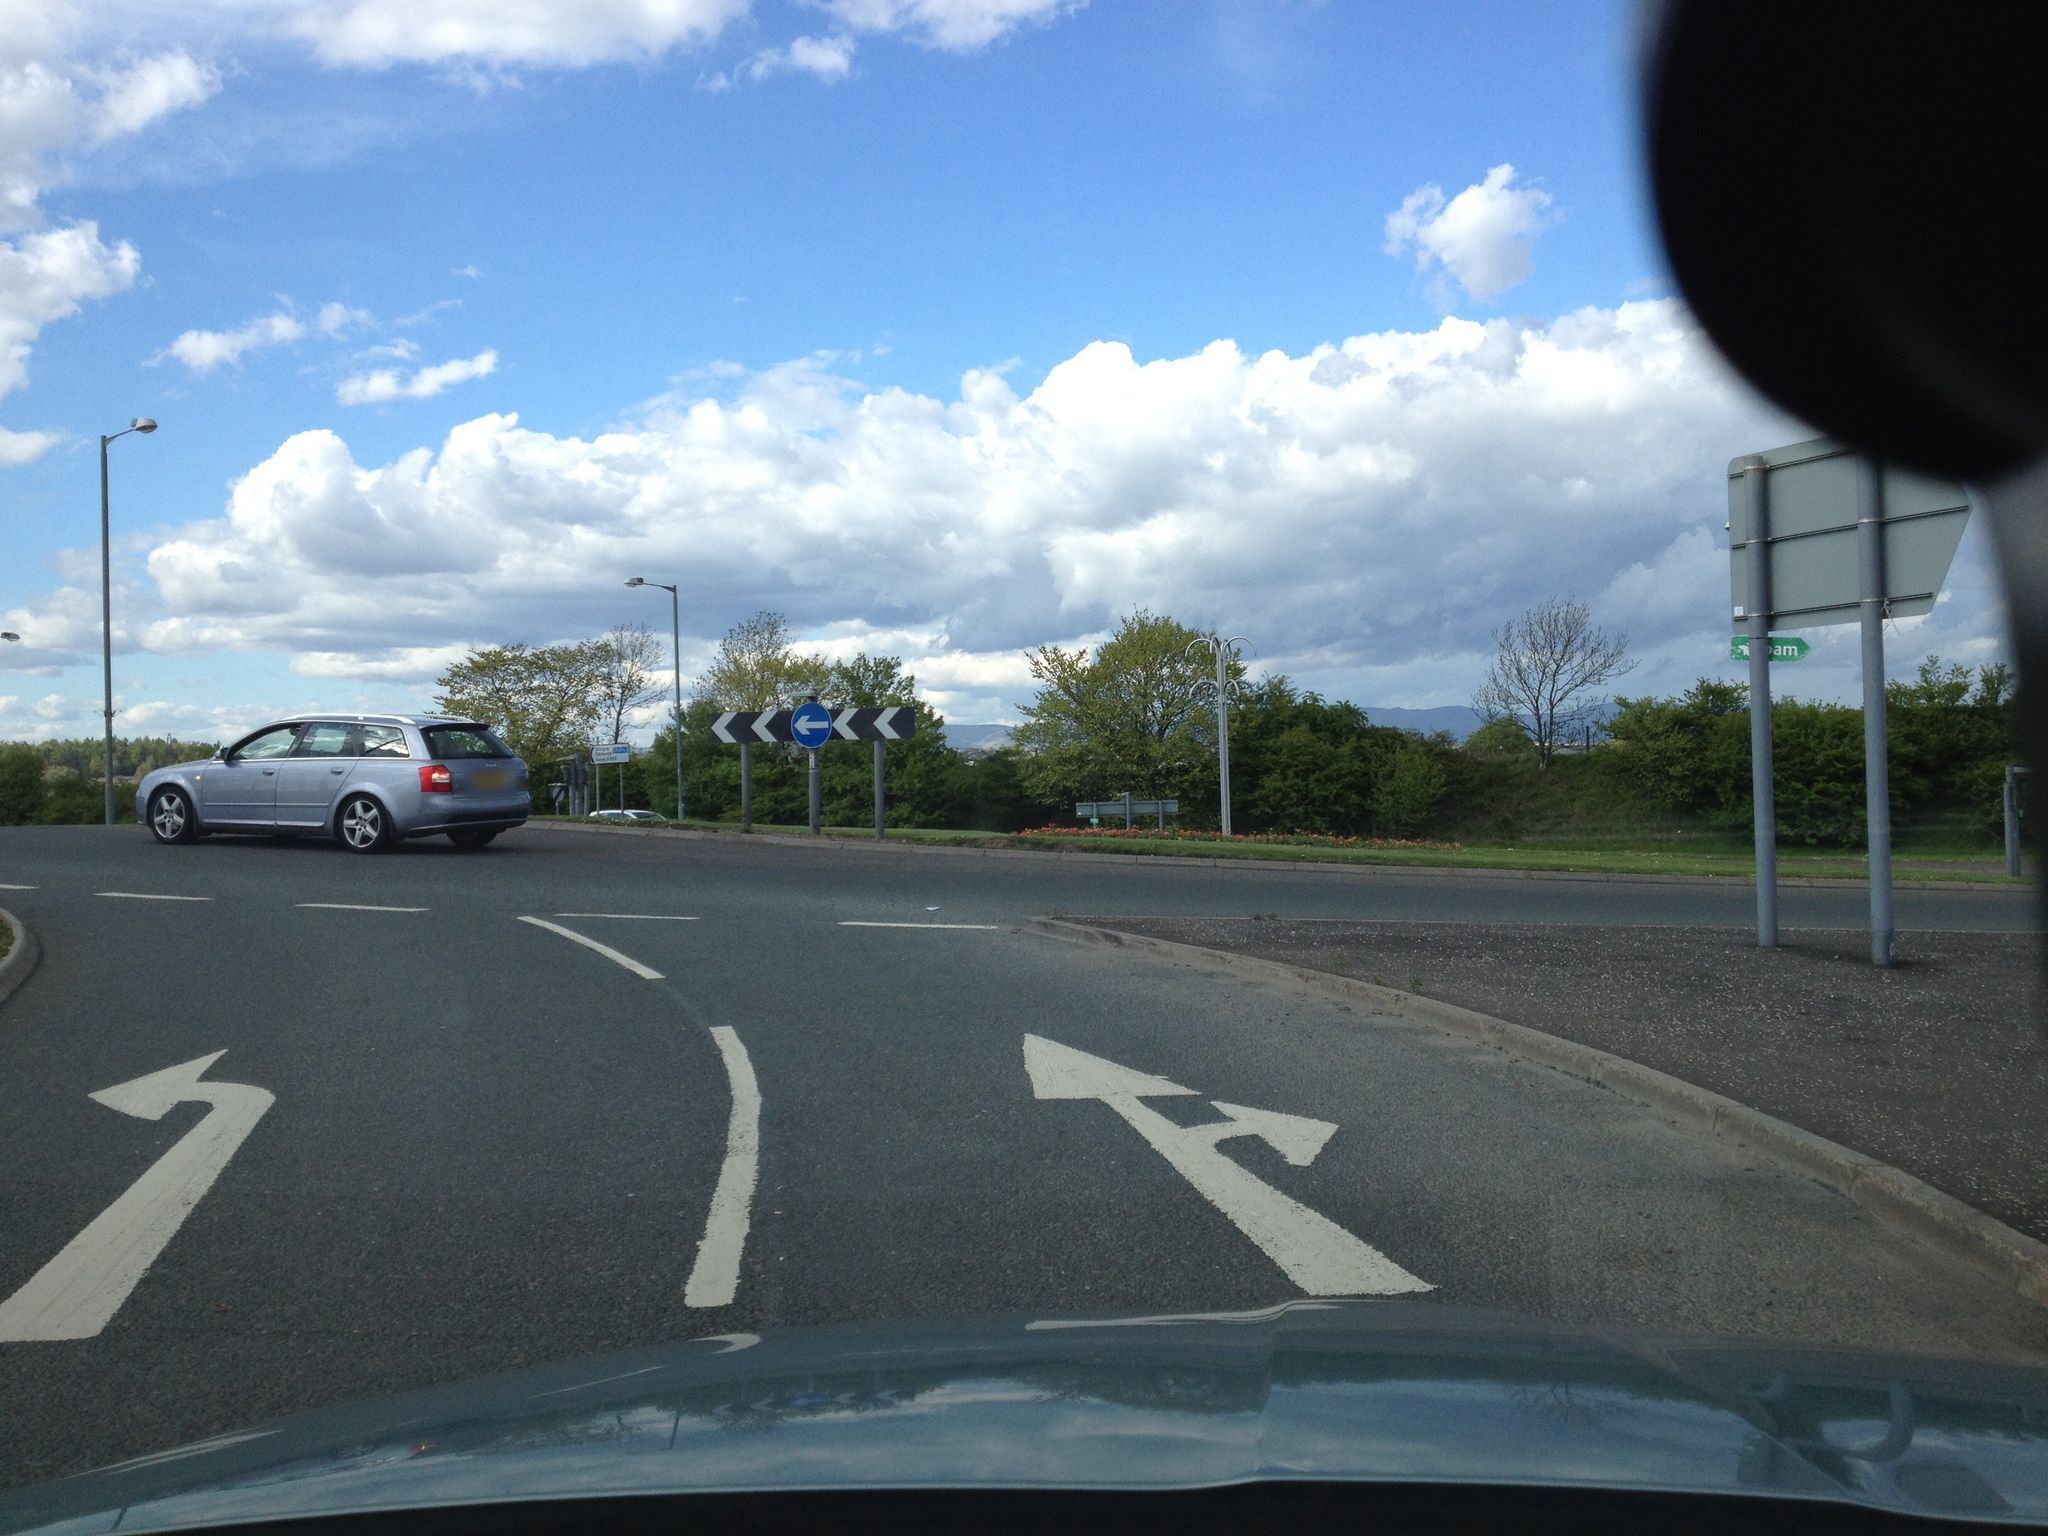car: (129, 712, 531, 858)
